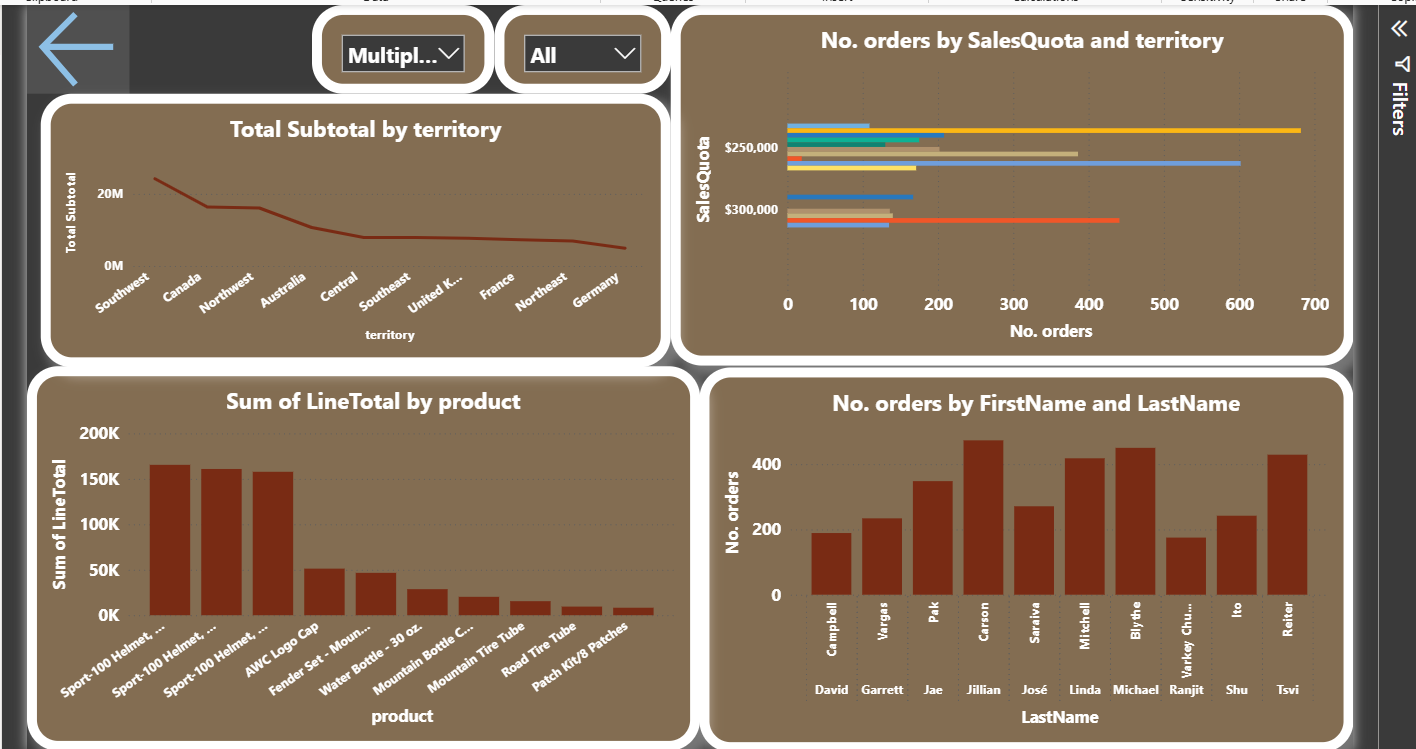

The dashboard page shown, as its layout file describes it:
{"tool":"powerbi","page":{"name":"Product","canvas":[1280,720],"ordinal":2},"visuals":[{"type":"clusteredBarChart","fields":{"Series":["Territory.territory"],"Y":["Mymeasures.No. orders"],"Category":["vSalesPerson.SalesQuota"]},"box":[621.1,0,659.2,348],"z":0},{"type":"columnChart","fields":{"Y":["Mymeasures.No. orders"],"Category":["vSalesPerson.FirstName","vSalesPerson.LastName"]},"box":[649.4,349.8,630.9,370.9],"z":1000},{"type":"slicer","fields":{"Values":["Dates.Year"]},"box":[275.1,0,176.1,85.7],"z":2000},{"type":"columnChart","fields":{"Category":["Product.product"],"Y":["Sum(OrderDetail.LineTotal)"]},"box":[0,348.4,649.4,370.9],"z":3000},{"type":"slicer","fields":{"Values":["Territory.territory"]},"box":[451.2,0,170.1,85.7],"z":4000},{"type":"actionButton","box":[0,0,98.9,85.7],"z":5000},{"type":"lineChart","fields":{"Y":["Mymeasures.Total Subtotal"],"Category":["Territory.territory"]},"box":[13.3,85.7,608,264.2],"z":6000}]}

Visuals, with their boxes on the page's 1280x720 design canvas (x1, y1, x2, y2). These are canvas units, not pixel positions in the 1416x749 screenshot, which may show the page scaled, cropped or inside an application window:
clusteredBarChart - Territory.territory x Mymeasures.No. orders: {"x1": 621, "y1": 0, "x2": 1280, "y2": 348}
columnChart - Mymeasures.No. orders x vSalesPerson.FirstName: {"x1": 649, "y1": 350, "x2": 1280, "y2": 721}
slicer - Dates.Year: {"x1": 275, "y1": 0, "x2": 451, "y2": 86}
columnChart - Product.product x Sum(OrderDetail.LineTotal): {"x1": 0, "y1": 348, "x2": 649, "y2": 719}
slicer - Territory.territory: {"x1": 451, "y1": 0, "x2": 621, "y2": 86}
actionButton: {"x1": 0, "y1": 0, "x2": 99, "y2": 86}
lineChart - Mymeasures.Total Subtotal x Territory.territory: {"x1": 13, "y1": 86, "x2": 621, "y2": 350}
